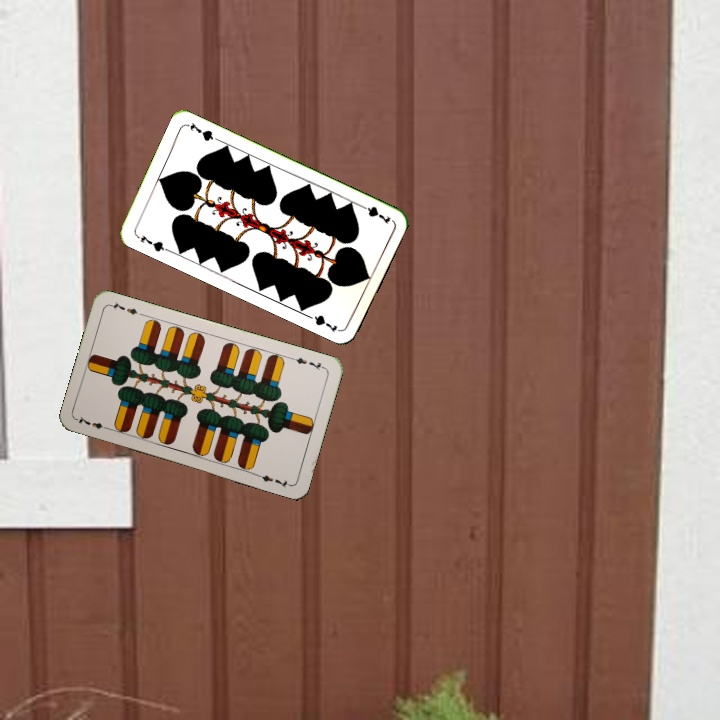E7: (73, 412, 113, 433), (288, 353, 327, 373)
G7: (355, 200, 394, 227), (136, 231, 171, 254)
